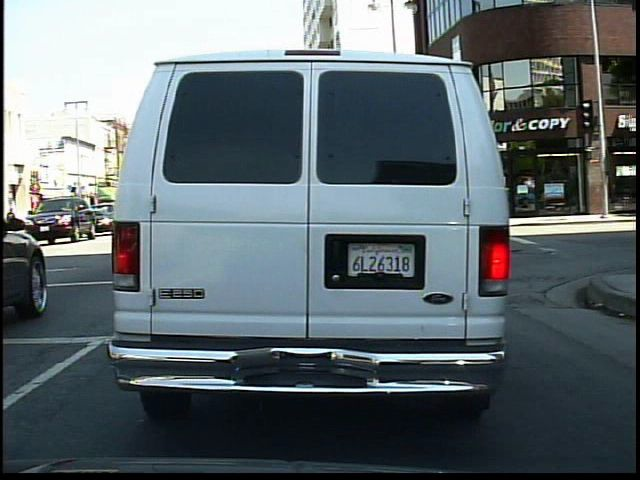person: (4, 203, 20, 240)
